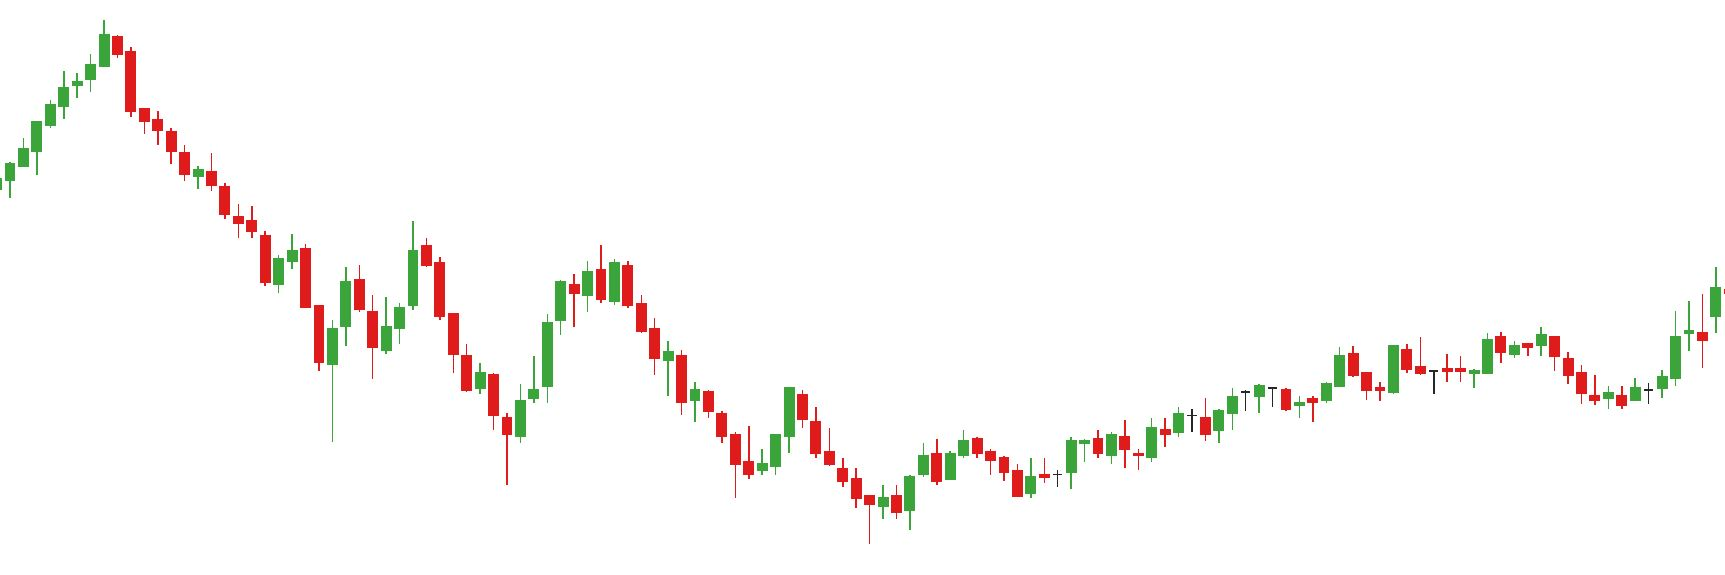buy: (724, 427, 915, 548)
sell: (338, 218, 433, 324)
